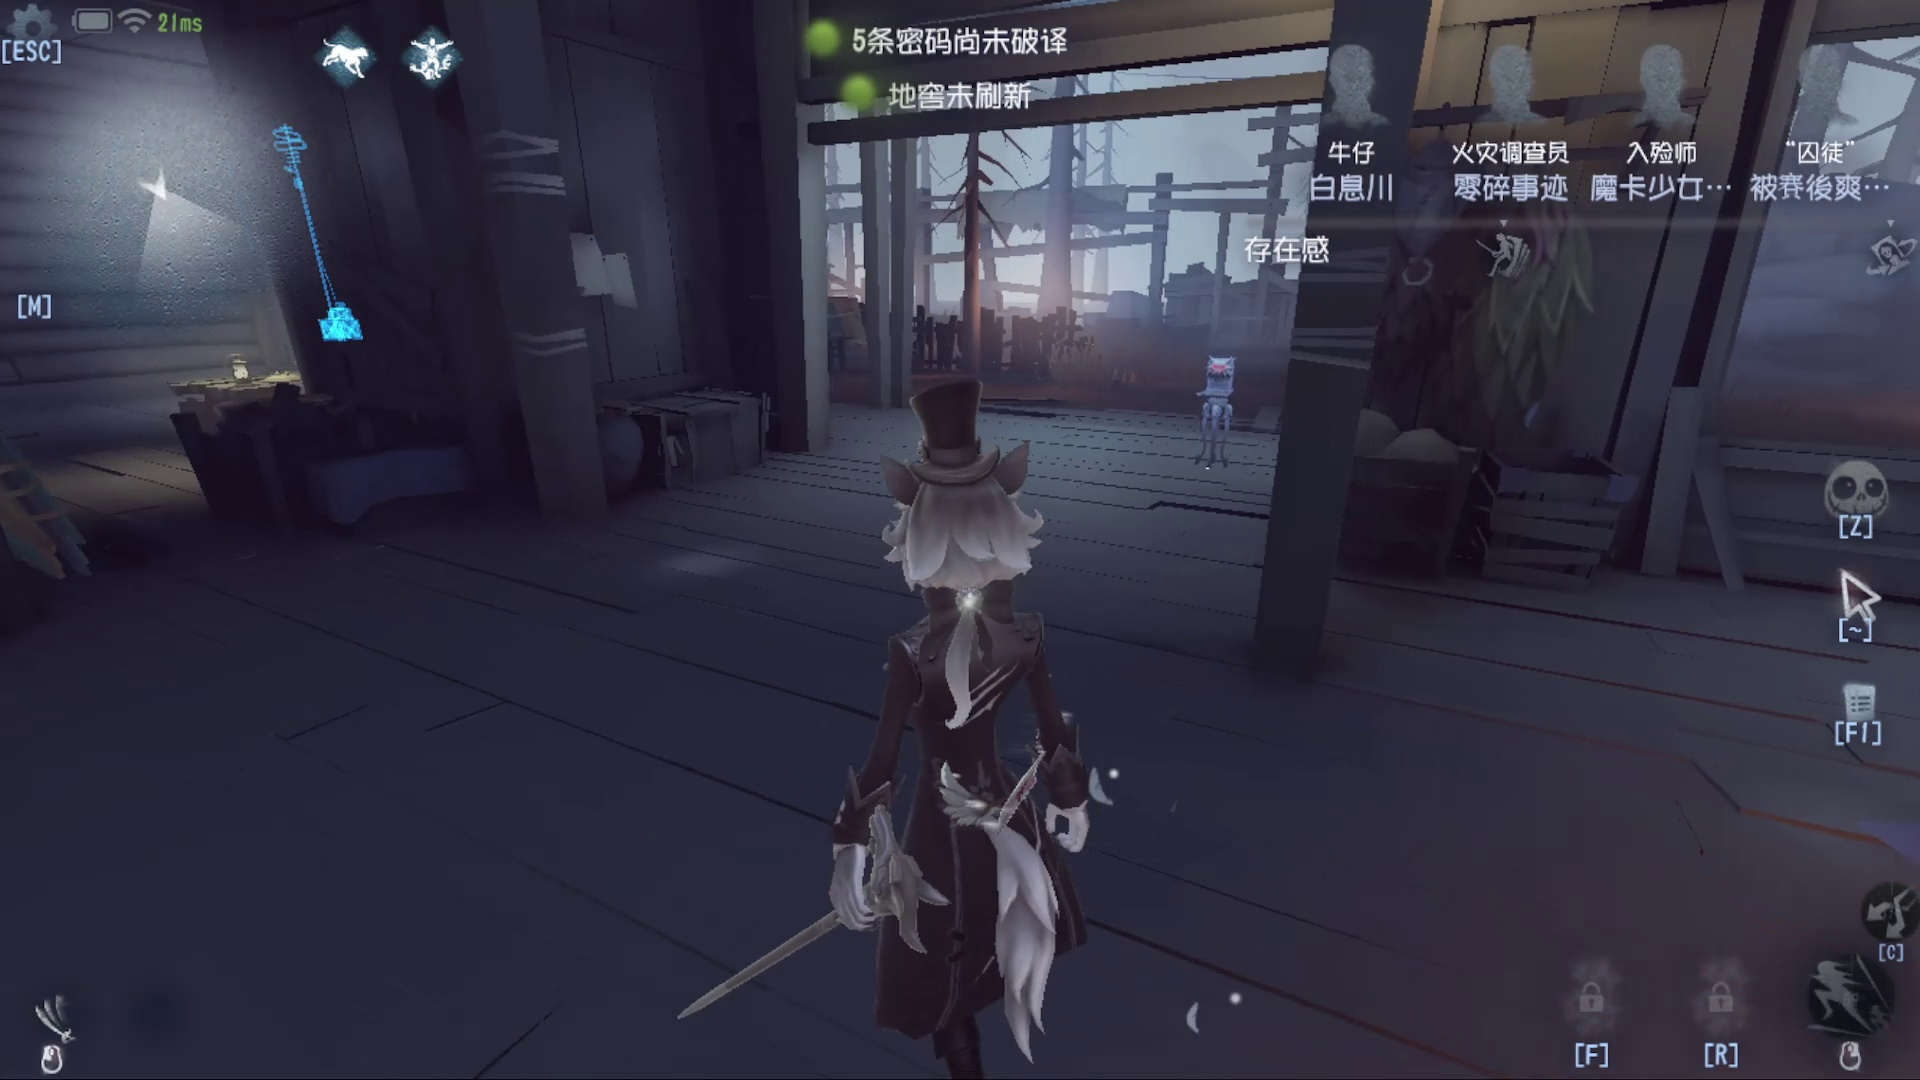密码机: (243, 104, 382, 363)
